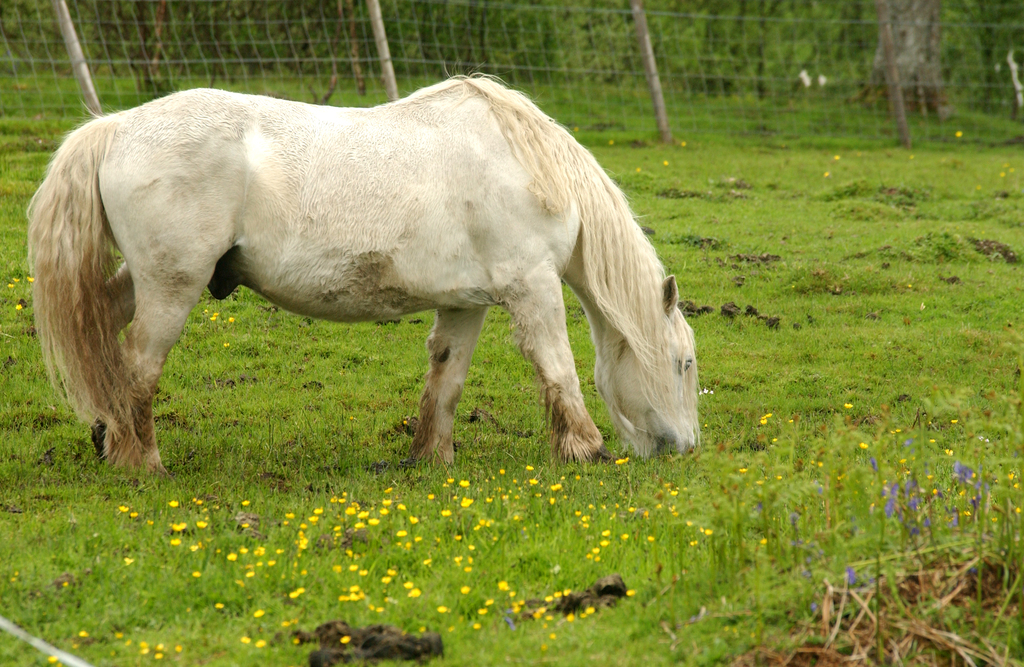horse: (27, 72, 702, 483)
